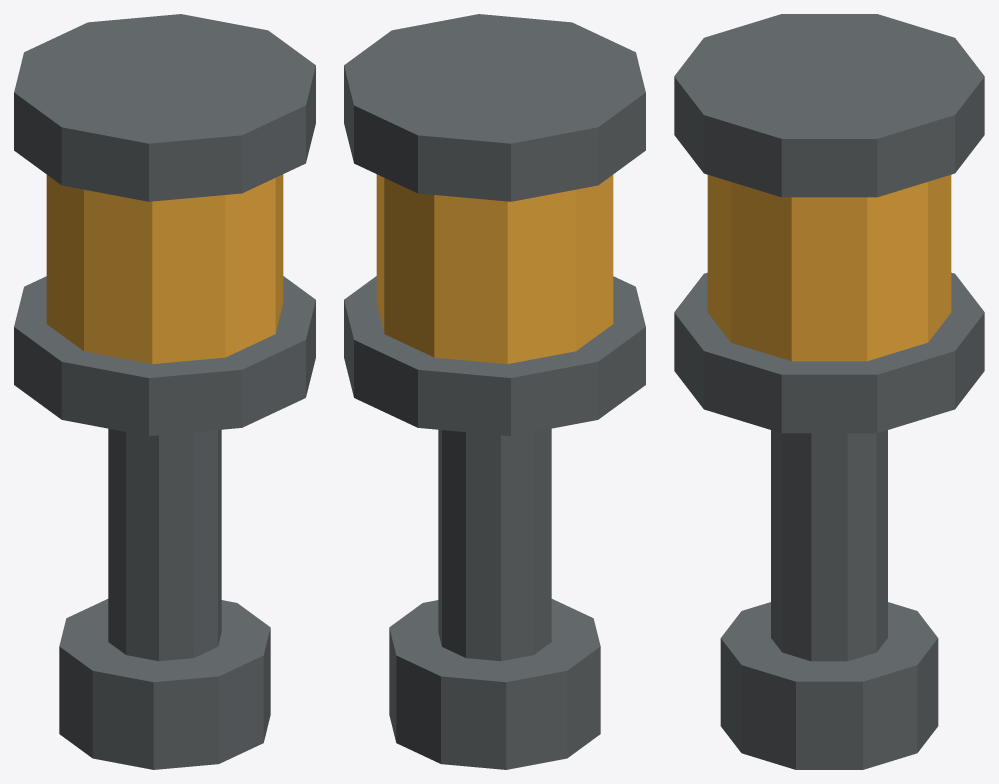
Rendered from lantern.fbx.
3 renders of one model, left to right at view 1: azimuth 30°, elevation 25°; view 2: azimuth 150°, elevation 25°; view 3: azimuth 270°, elevation 25°, orthographic.
Visible parts, largest first — view 1: lantern; view 2: lantern; view 3: lantern.
Part boxes in pixels (x1=…): lantern: x1=14, y1=14, x2=315, y2=769; lantern: x1=344, y1=14, x2=645, y2=769; lantern: x1=674, y1=14, x2=984, y2=769.
Size of the model in its own units: 42.77 by 104 by 44.97.
